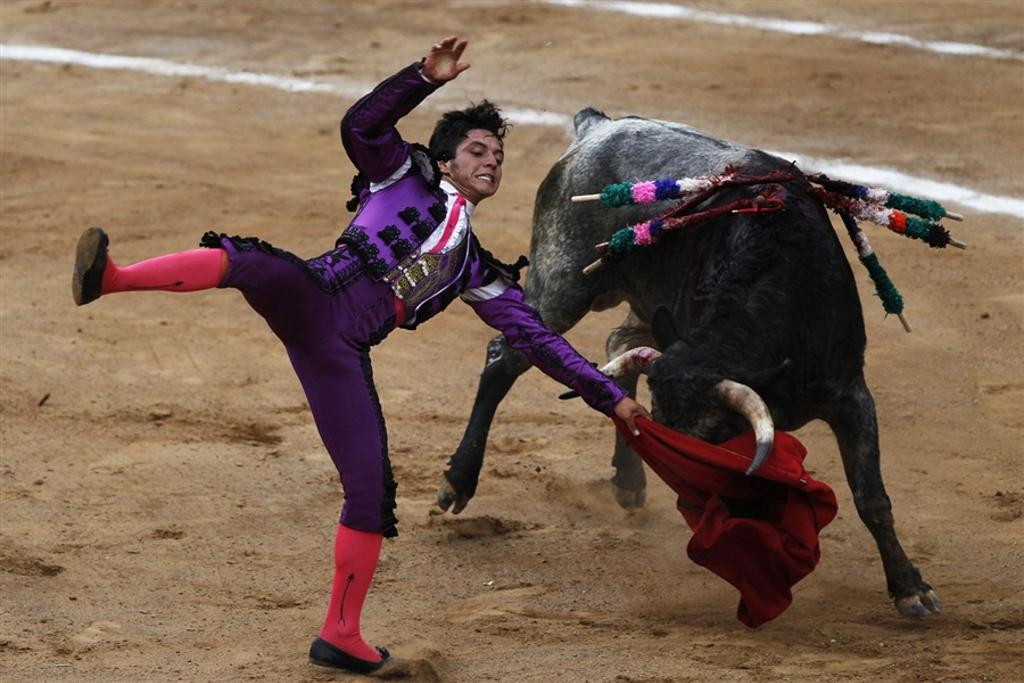face: (451, 125, 505, 191)
